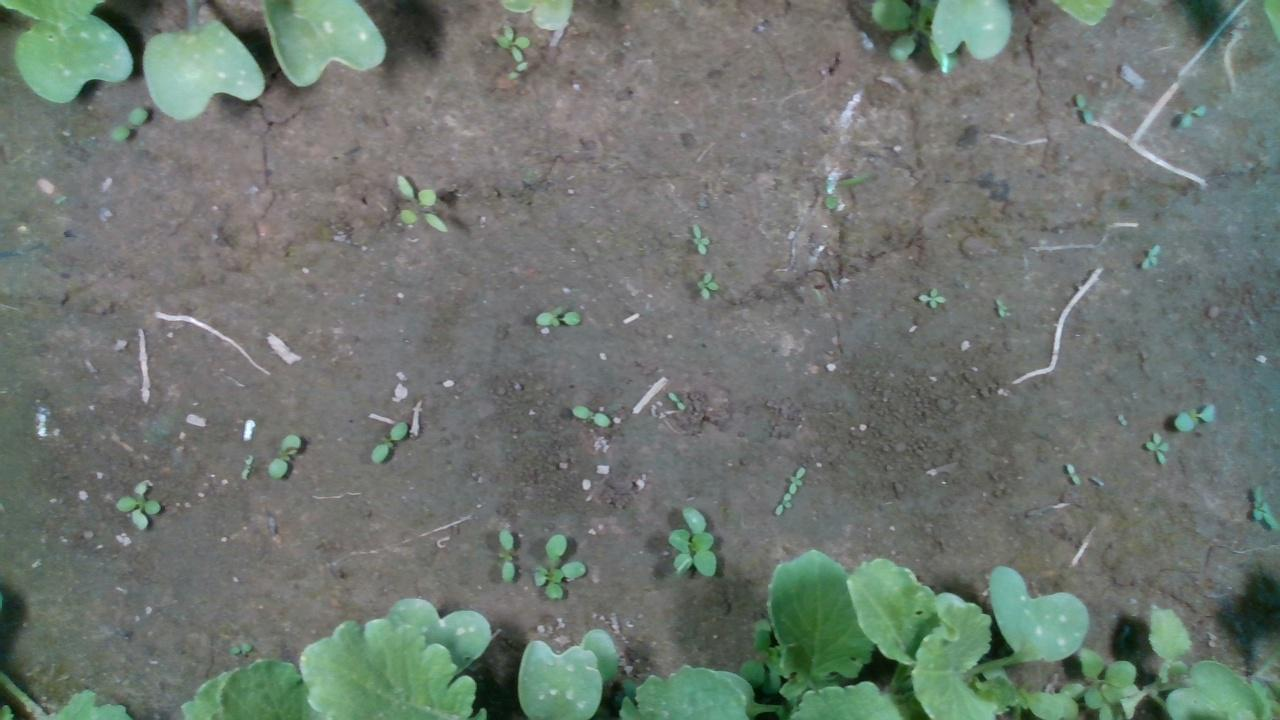weed: (395, 173, 447, 232), (113, 480, 163, 532), (369, 419, 407, 463), (267, 433, 299, 480), (109, 104, 147, 141), (495, 23, 529, 62), (1173, 401, 1216, 431), (533, 305, 580, 327), (569, 403, 611, 427), (497, 526, 515, 582), (912, 284, 946, 308), (1143, 431, 1167, 464), (1137, 242, 1161, 272), (688, 222, 710, 254), (1074, 91, 1094, 126), (696, 270, 719, 300), (665, 390, 686, 412), (239, 453, 253, 480), (1066, 461, 1080, 485), (1115, 411, 1127, 428)
